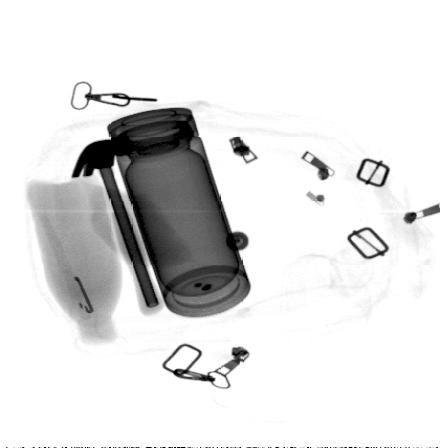Hammer: (69, 130, 166, 316)
